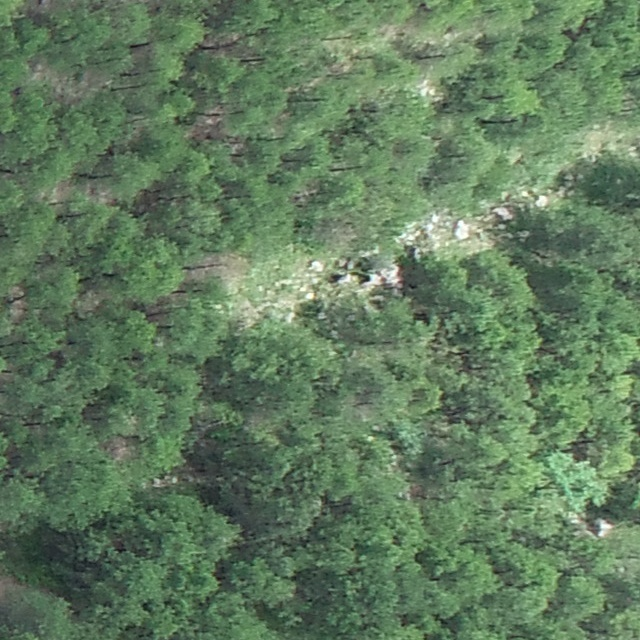unhealthy: (186, 250, 250, 289), (311, 219, 356, 247), (101, 436, 134, 463), (0, 569, 17, 603)
